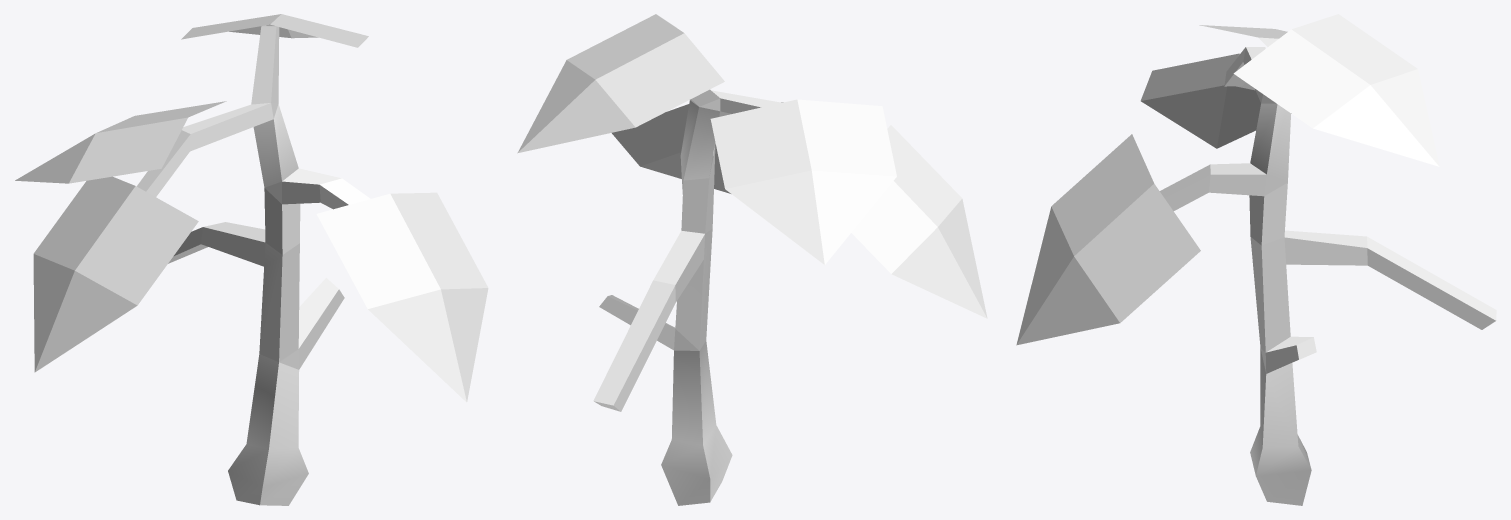
File: SM_Prop_Plant_Bush_02_S.glb
3 renders of one model, left to right at view 1: azimuth 30°, elevation 25°; view 2: azimuth 150°, elevation 25°; view 3: azimuth 270°, elevation 25°, orthographic. The views are drawn at different scales.
Parts seen in each view (by area): view 1: SM_Prop_Plant_Bush_02_S; view 2: SM_Prop_Plant_Bush_02_S; view 3: SM_Prop_Plant_Bush_02_S.
Boxes of the visible parts, x1,y1,x2,y2 form: SM_Prop_Plant_Bush_02_S: (15,14,488,505); SM_Prop_Plant_Bush_02_S: (517,14,987,505); SM_Prop_Plant_Bush_02_S: (1016,14,1496,505).
Size of the model in its own units: 0.27 by 0.3063 by 0.2799.
2 materials, 1 textured.
